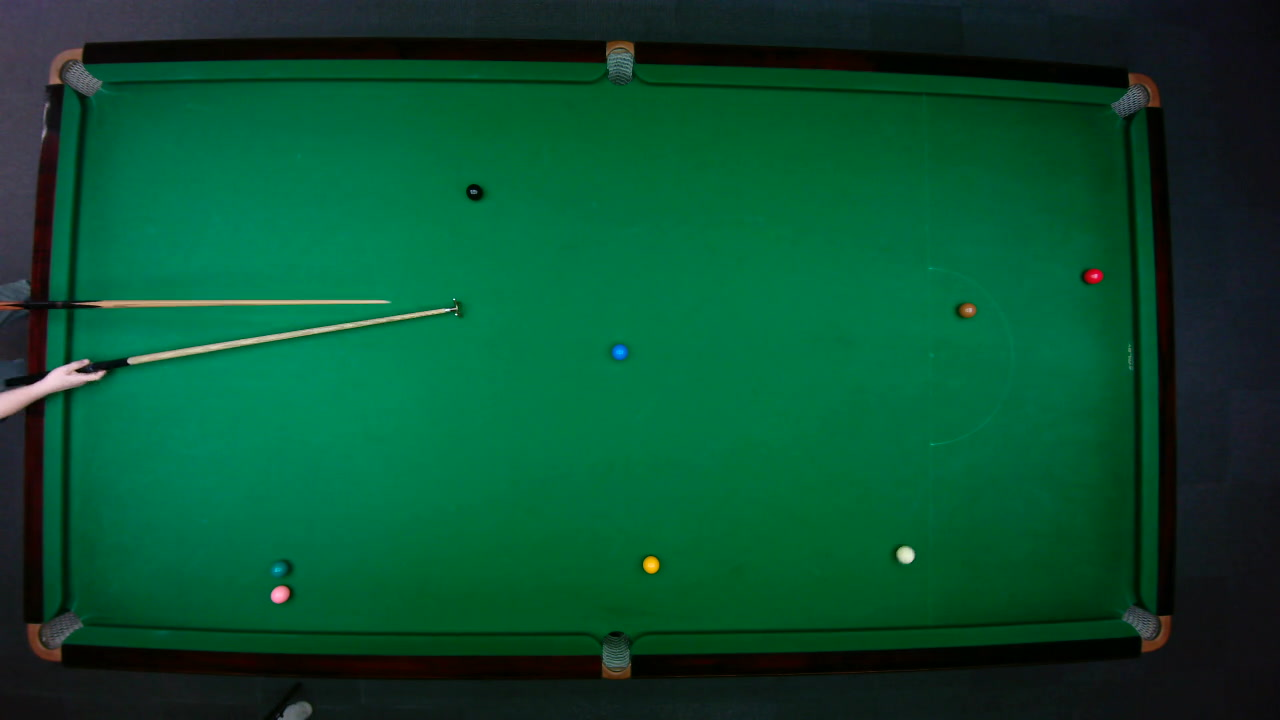bag: (25, 609, 83, 661), (46, 46, 103, 97), (1119, 603, 1171, 651), (1108, 72, 1161, 118), (601, 629, 630, 680), (605, 39, 633, 85)
black: (464, 183, 482, 200)
blue: (609, 342, 628, 360)
brown: (956, 301, 977, 317)
cue: (2, 298, 394, 318)
green: (268, 559, 289, 576)
pink: (269, 583, 290, 604)
red: (1082, 267, 1104, 284)
white: (894, 543, 915, 564)
yellow: (641, 554, 660, 574)
zone: (926, 265, 1013, 445)
